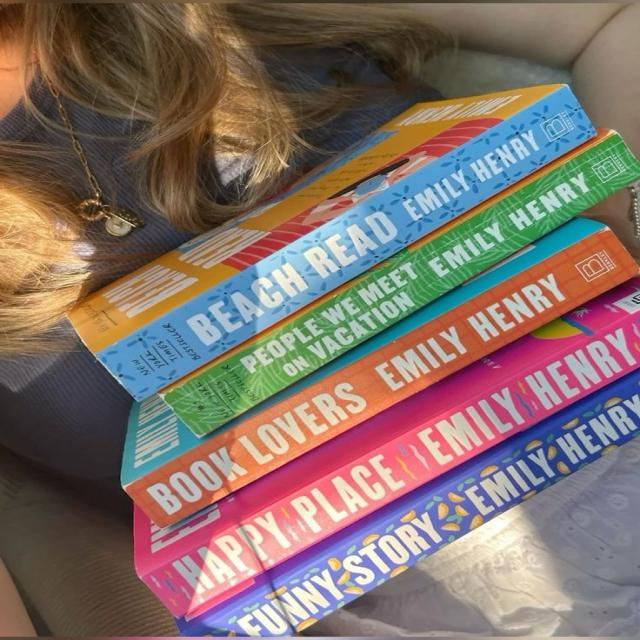book: (157, 299, 638, 623), (131, 227, 640, 530), (101, 94, 598, 391), (161, 136, 639, 435), (177, 370, 639, 636)
